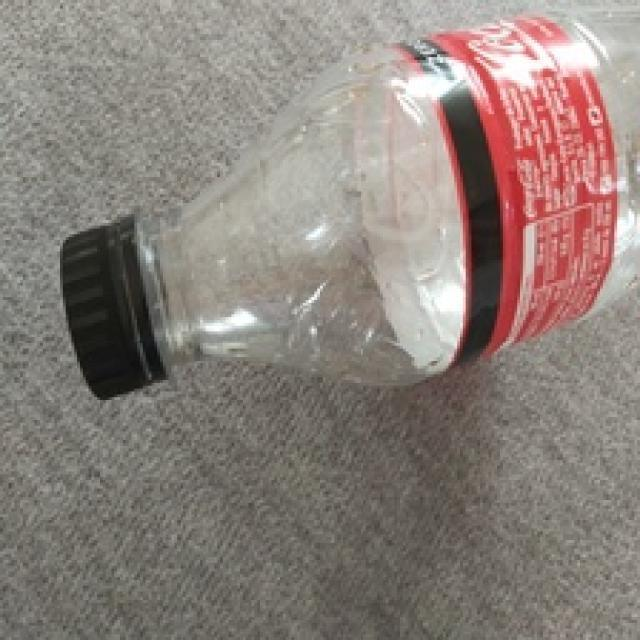Plastic: (57, 12, 640, 394)
